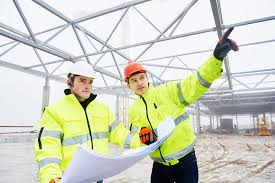Hard Hat: (64, 62, 95, 78), (122, 60, 148, 77)
High Viz: (58, 99, 112, 173), (142, 83, 188, 162)
